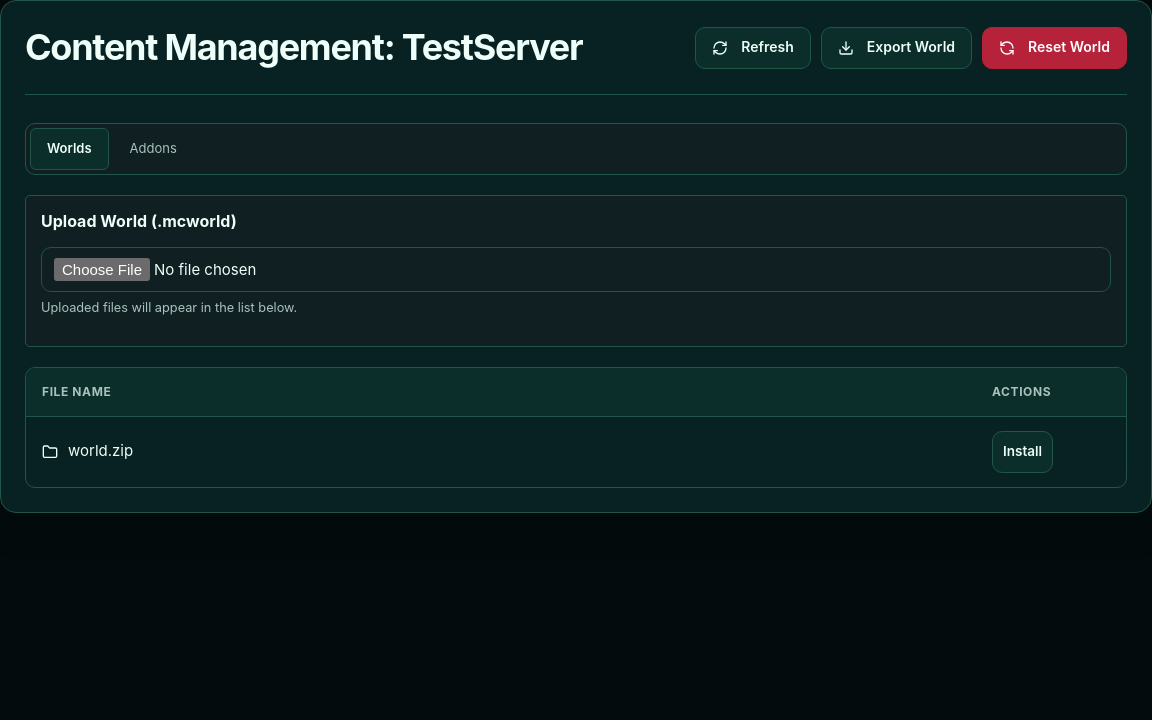
Content › renders addon list when tab changed
Expected: the text "world.zip" is shown, [68,439,133,464]
// Click addons tab
Click the button "Addons" at coordinates (153, 149), box [112,128,194,170]
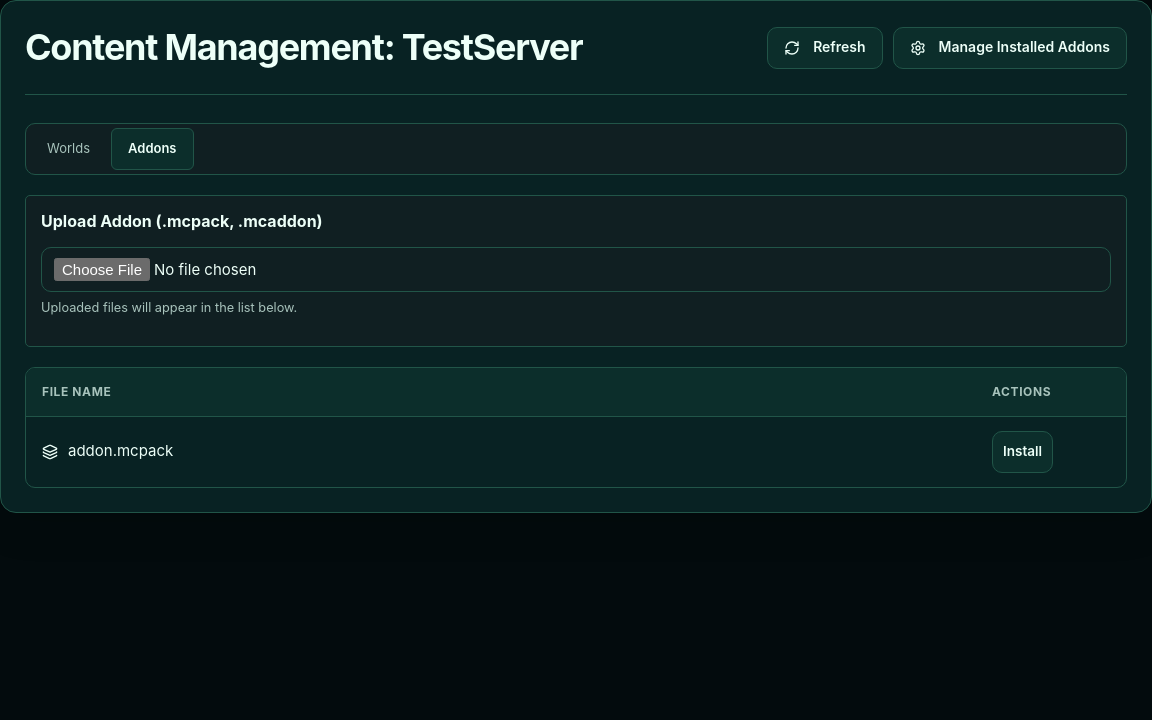
Expected: the text "addon.mcpack" is shown, [68,439,173,464]
